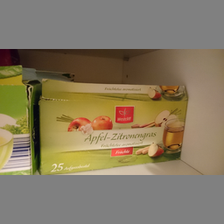tea: (39, 78, 188, 174)
